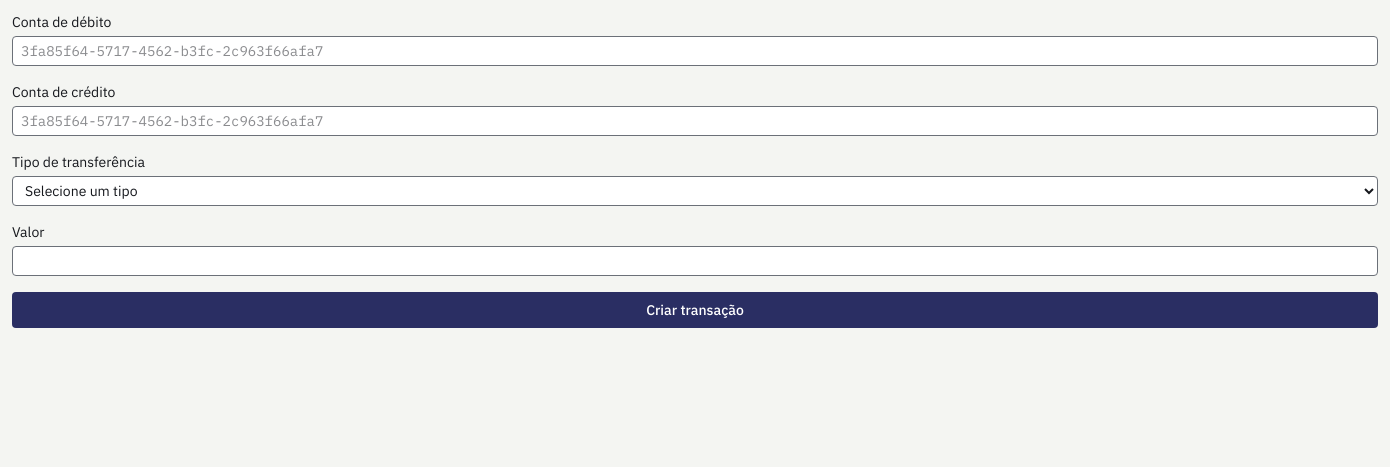
Test: CreateTransactionForm › shows a validation error and does not submit when a required field is invalid
Step 1. Type "not-a-uuid" into the field labelled "Conta de débito" → (695, 51), box x1=12 y1=36 x2=1378 y2=66
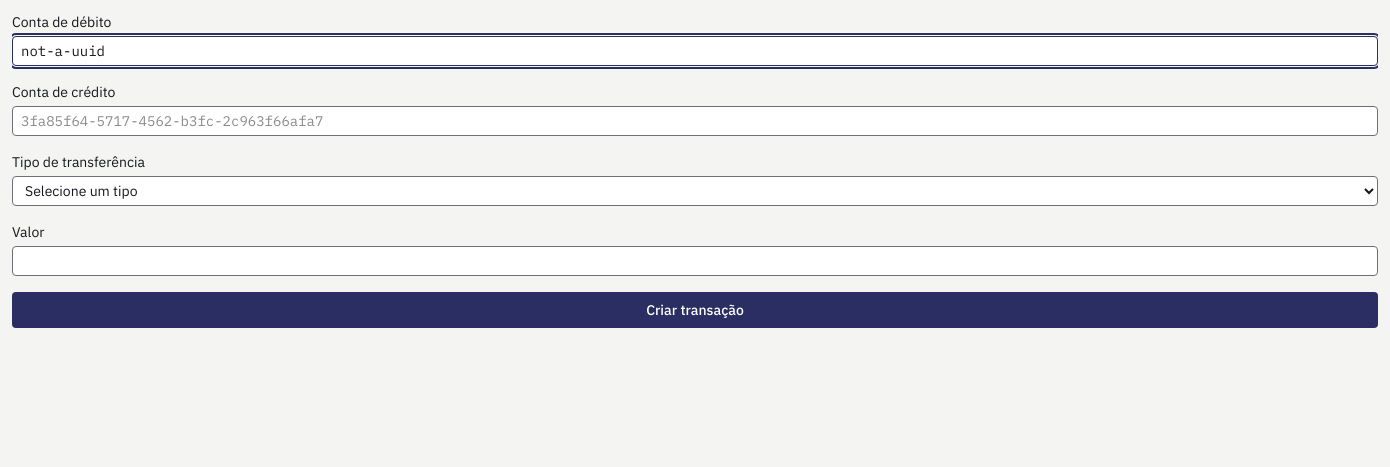
Step 2. Click the button "Criar transação" → (695, 310), box x1=12 y1=292 x2=1378 y2=328
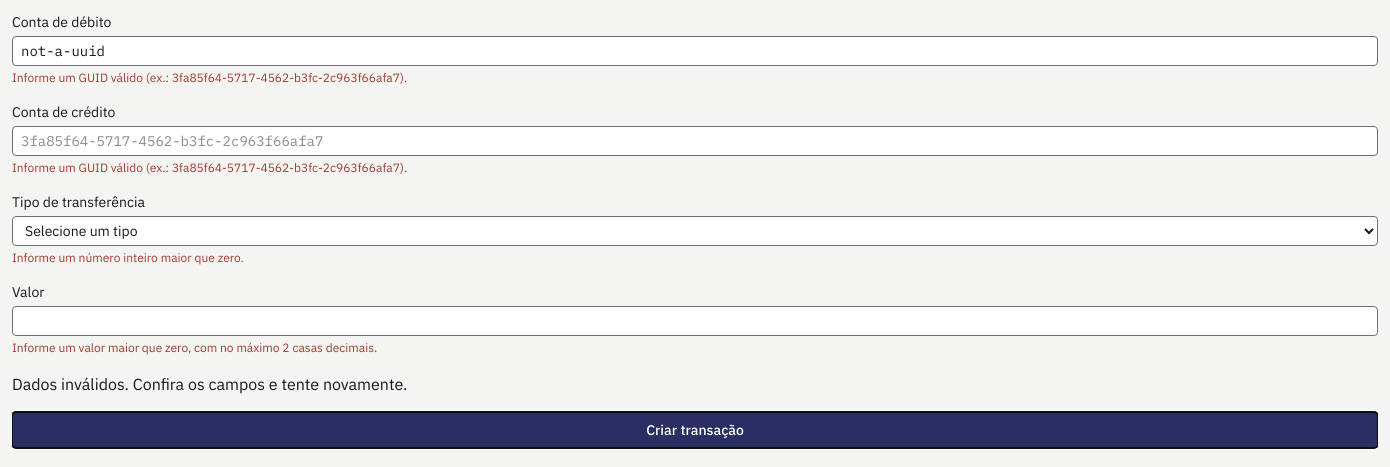
Expected: the message shows "Dados inválidos", x1=12 y1=374 x2=407 y2=394
